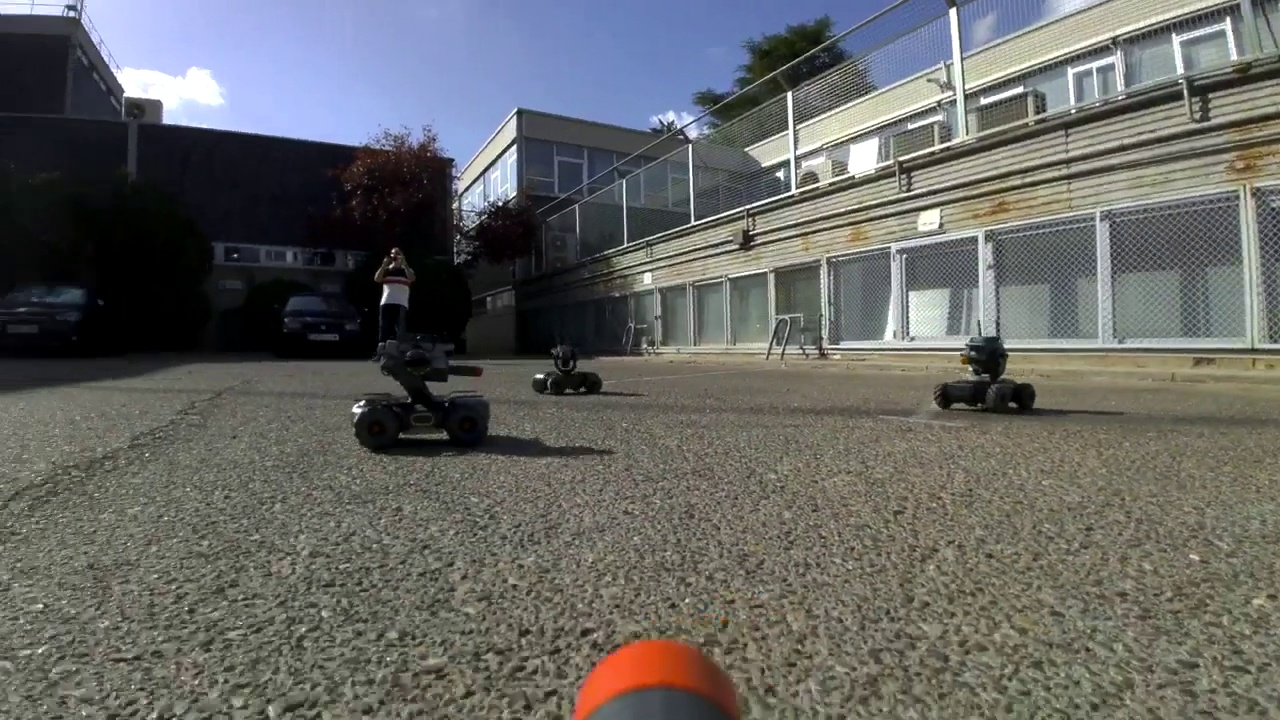robot: (351, 329, 492, 449), (927, 319, 1036, 415), (530, 338, 602, 400)
